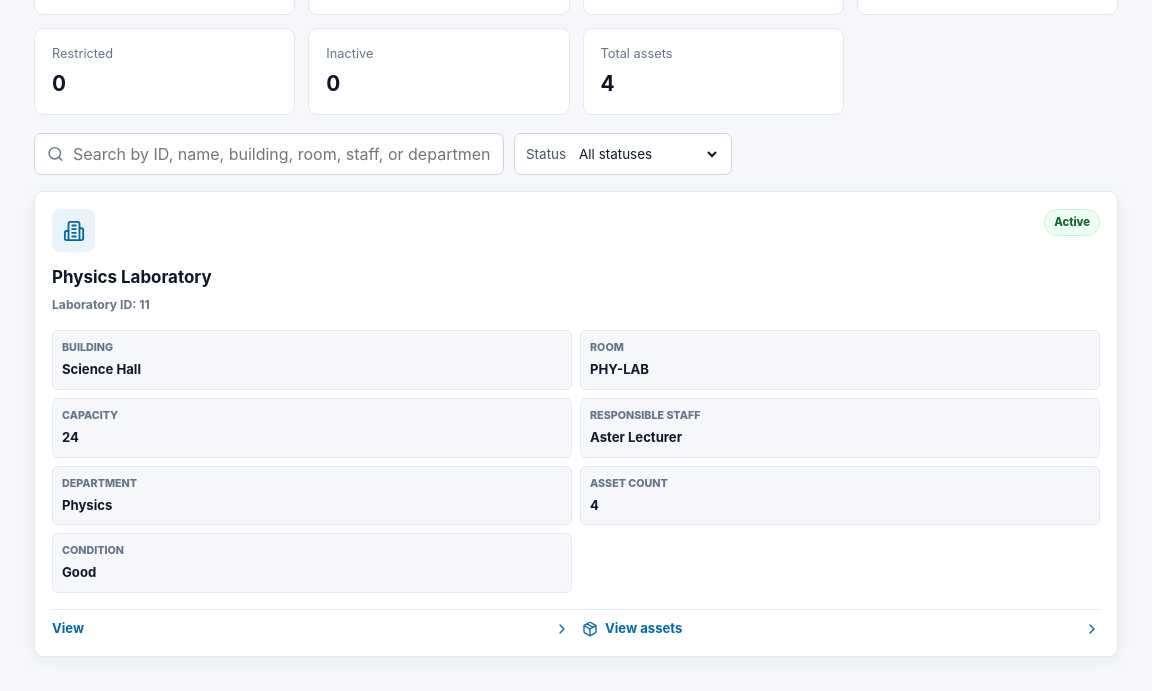
Department Head laboratories › opens the scoped asset list from the View Assets action
(page scrolled)
Click the button "View assets": click(644, 628) [582, 610, 1100, 639]
(page scrolled)
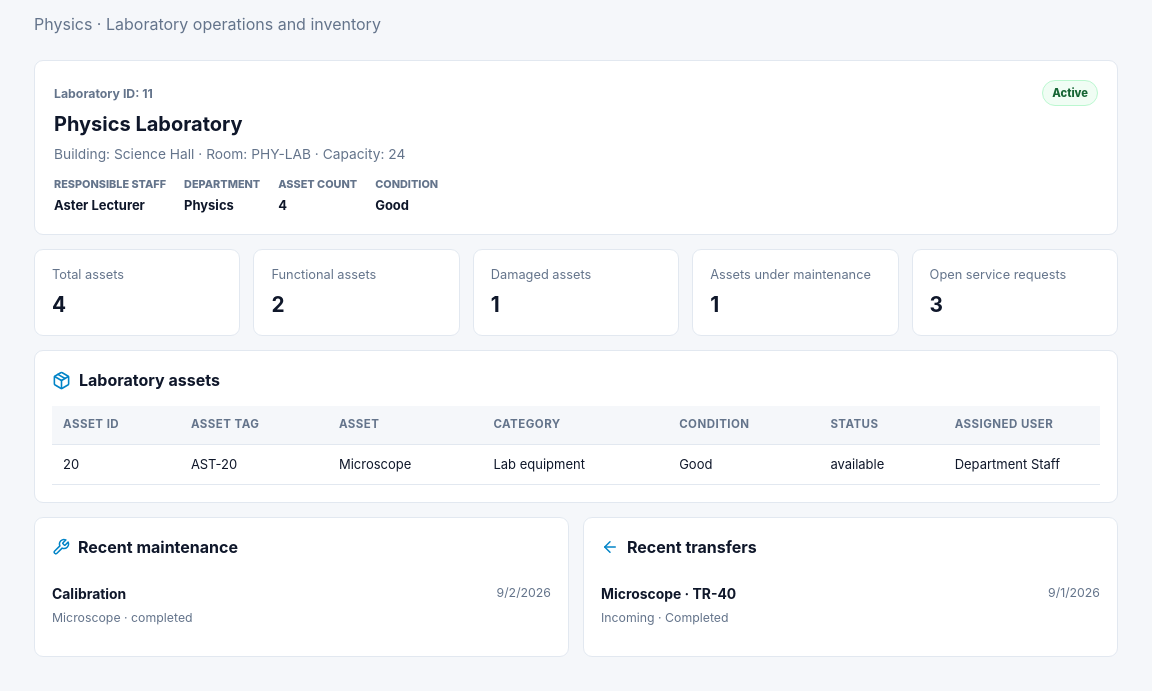
Now the heading "Laboratory assets" is shown, box [52, 370, 220, 390]
Now the text "Department Staff" is shown, box [944, 444, 1100, 485]
